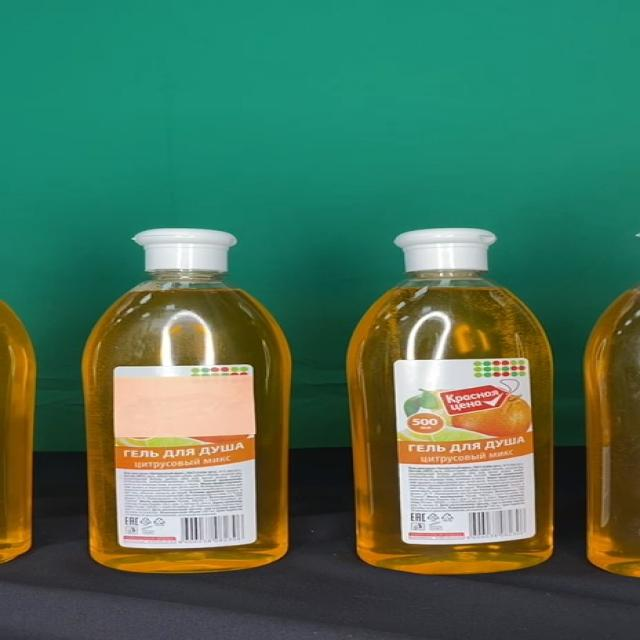Bottle: (84, 228, 292, 573), (348, 228, 555, 574)
Cap: (132, 228, 238, 271), (392, 228, 496, 270)
